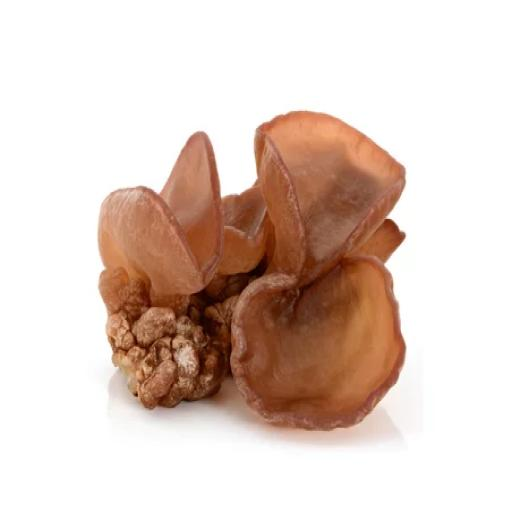Wood Ear Mushroom: (91, 107, 416, 431)
